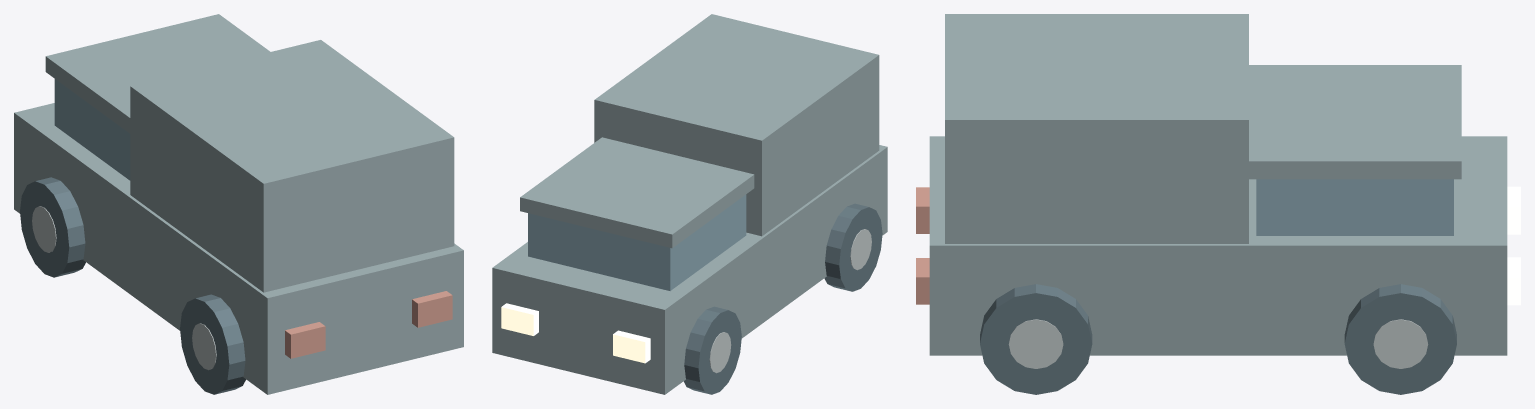
File: remaster_vehicle_7.glb
3 renders of one model, left to right at view 1: azimuth 30°, elevation 25°; view 2: azimuth 150°, elevation 25°; view 3: azimuth 270°, elevation 25°, orthographic. The views are drawn at different scales.
Visible parts, largest first — view 1: remaster_vehicle_7 roof, remaster_vehicle_7 dark, remaster_vehicle_7 glass, remaster_vehicle_7 red, remaster_vehicle_7 metal; view 2: remaster_vehicle_7 roof, remaster_vehicle_7 glass, remaster_vehicle_7 dark, remaster_vehicle_7 warm, remaster_vehicle_7 metal; view 3: remaster_vehicle_7 roof, remaster_vehicle_7 dark, remaster_vehicle_7 glass, remaster_vehicle_7 metal, remaster_vehicle_7 warm, remaster_vehicle_7 red.
Boxes of the visible parts, box(x1,y1,x2,y2) form: remaster_vehicle_7 roof: box(14, 14, 463, 394); remaster_vehicle_7 dark: box(20, 177, 245, 394); remaster_vehicle_7 glass: box(54, 79, 130, 180); remaster_vehicle_7 red: box(285, 291, 452, 358); remaster_vehicle_7 metal: box(32, 206, 216, 370); remaster_vehicle_7 roof: box(492, 14, 887, 394); remaster_vehicle_7 glass: box(528, 194, 746, 290); remaster_vehicle_7 dark: box(683, 203, 882, 394); remaster_vehicle_7 warm: box(501, 303, 650, 363); remaster_vehicle_7 metal: box(709, 229, 871, 373); remaster_vehicle_7 roof: box(929, 14, 1507, 355); remaster_vehicle_7 dark: box(980, 284, 1456, 394); remaster_vehicle_7 glass: box(1256, 179, 1453, 235); remaster_vehicle_7 metal: box(1008, 319, 1428, 368); remaster_vehicle_7 warm: box(1507, 186, 1520, 305); remaster_vehicle_7 red: box(916, 187, 929, 304).
Size of the model in its own units: 1.99 by 1.92 by 3.98.
